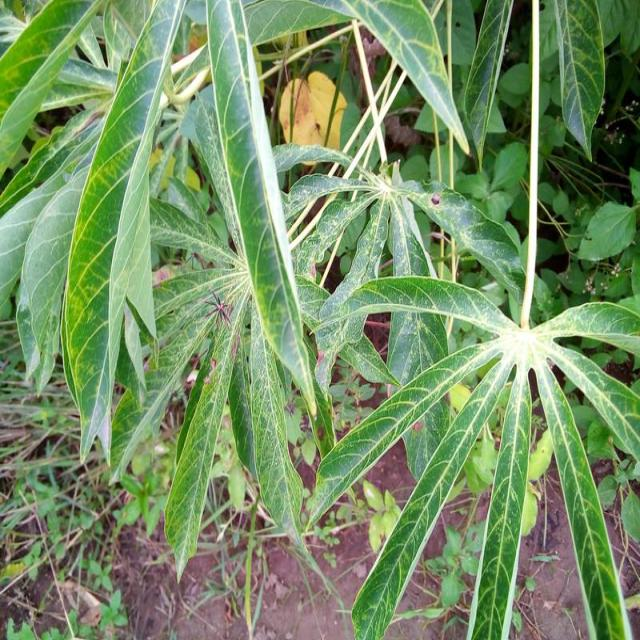cassava leaf: (1, 1, 638, 637), (58, 0, 184, 466), (204, 0, 318, 419)
